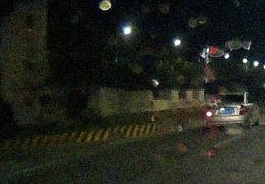L_light: (206, 106, 213, 117)
R_light: (240, 105, 246, 114)
T_light: (225, 94, 232, 96)
night-left: (206, 92, 248, 129)
